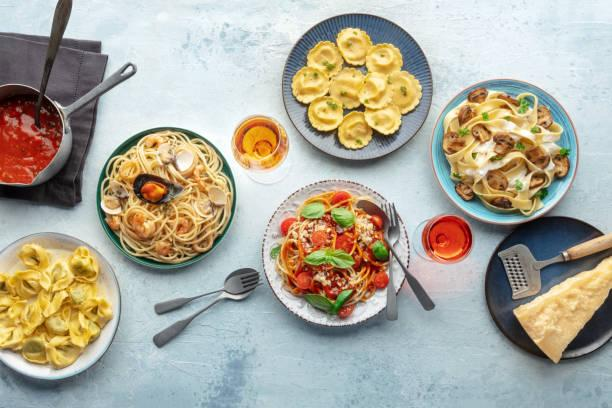Braised Crucian Carp: (429, 75, 583, 227), (280, 13, 432, 161), (93, 122, 238, 276), (261, 178, 409, 327), (0, 230, 126, 384)
